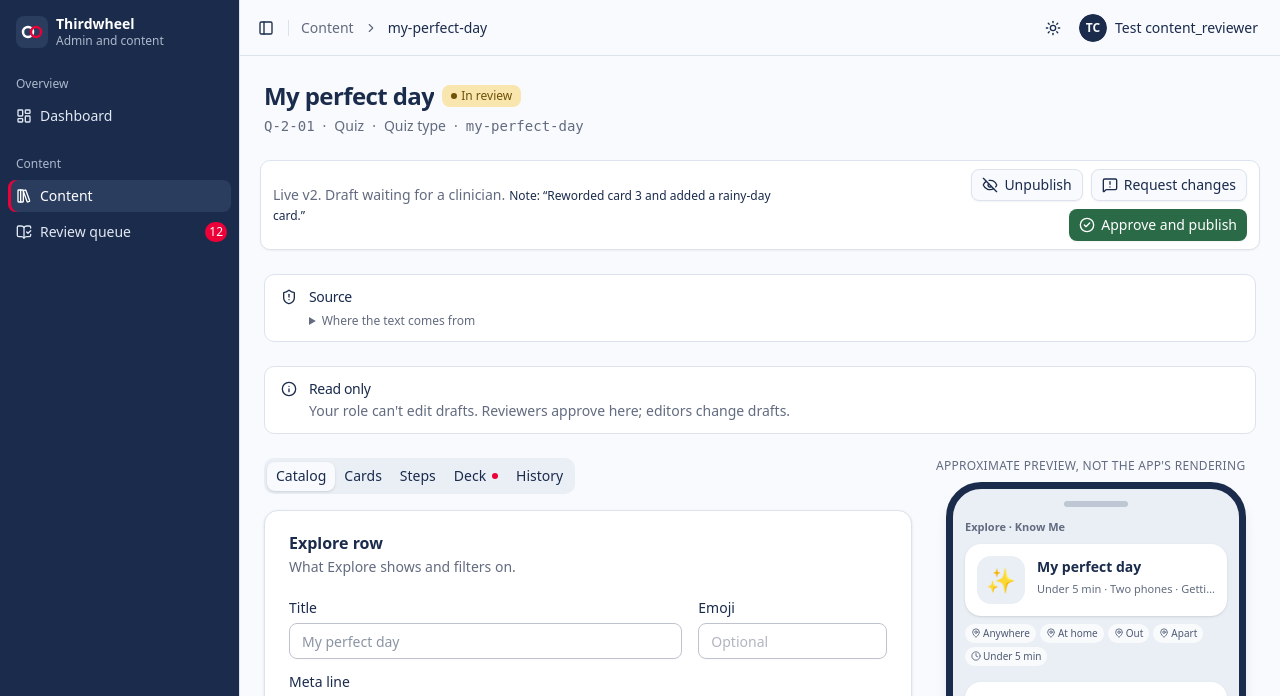
Test: content audit (mock API) › approve carries the revision the clinician saw: a draft changed meanwhile is not approved
Click the button "Approve and publish" at (1158,225), box [1069, 209, 1247, 241]
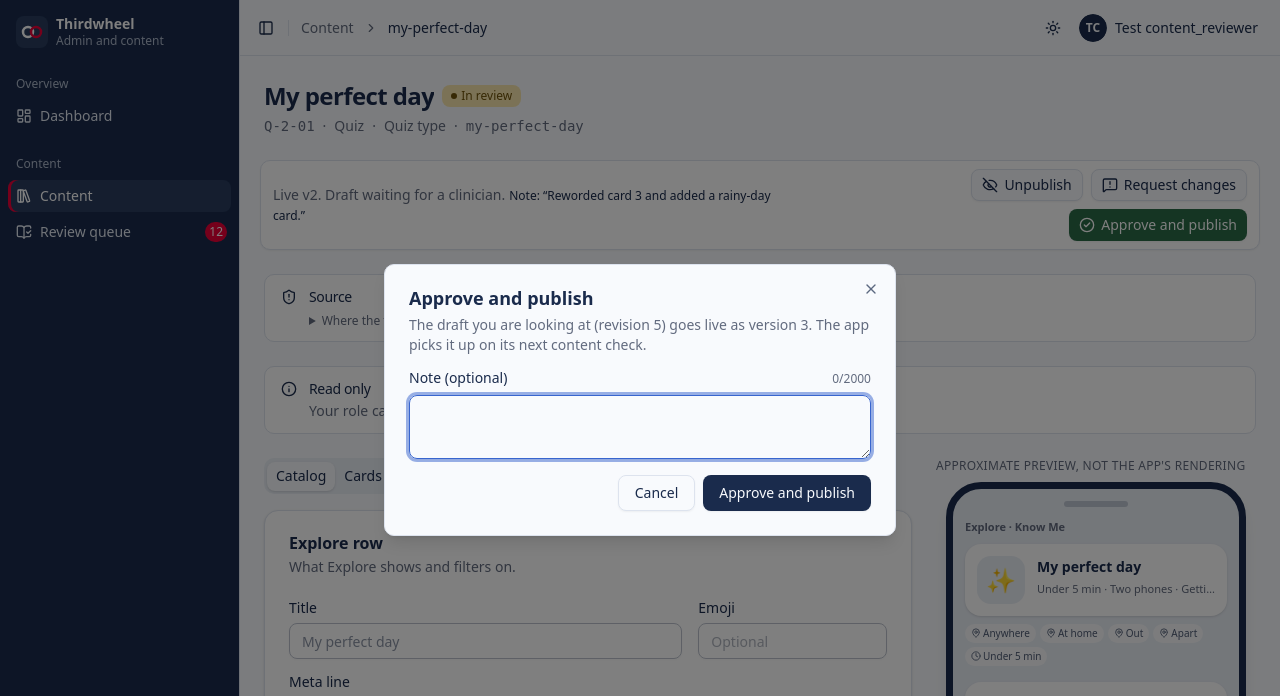
Click the button "Approve and publish" at (787,493), box [703, 475, 871, 511]
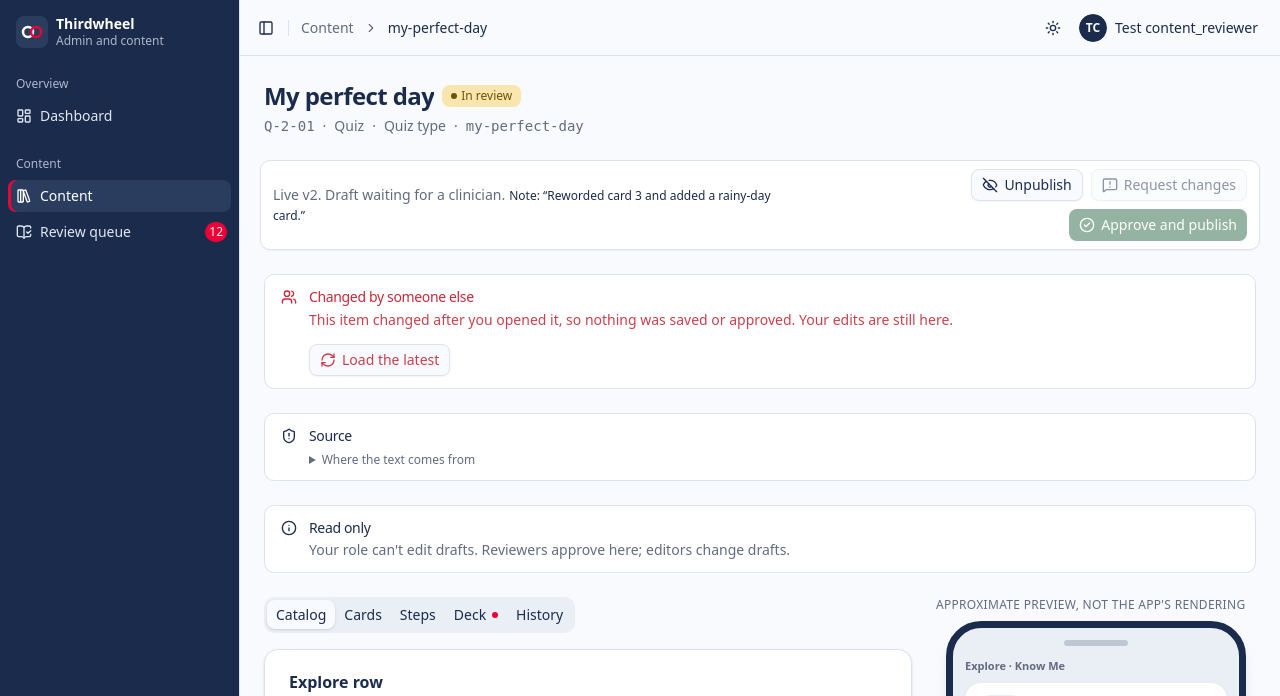
expect the message "Changed by someone else" is shown: met, box [264, 274, 1256, 389]
